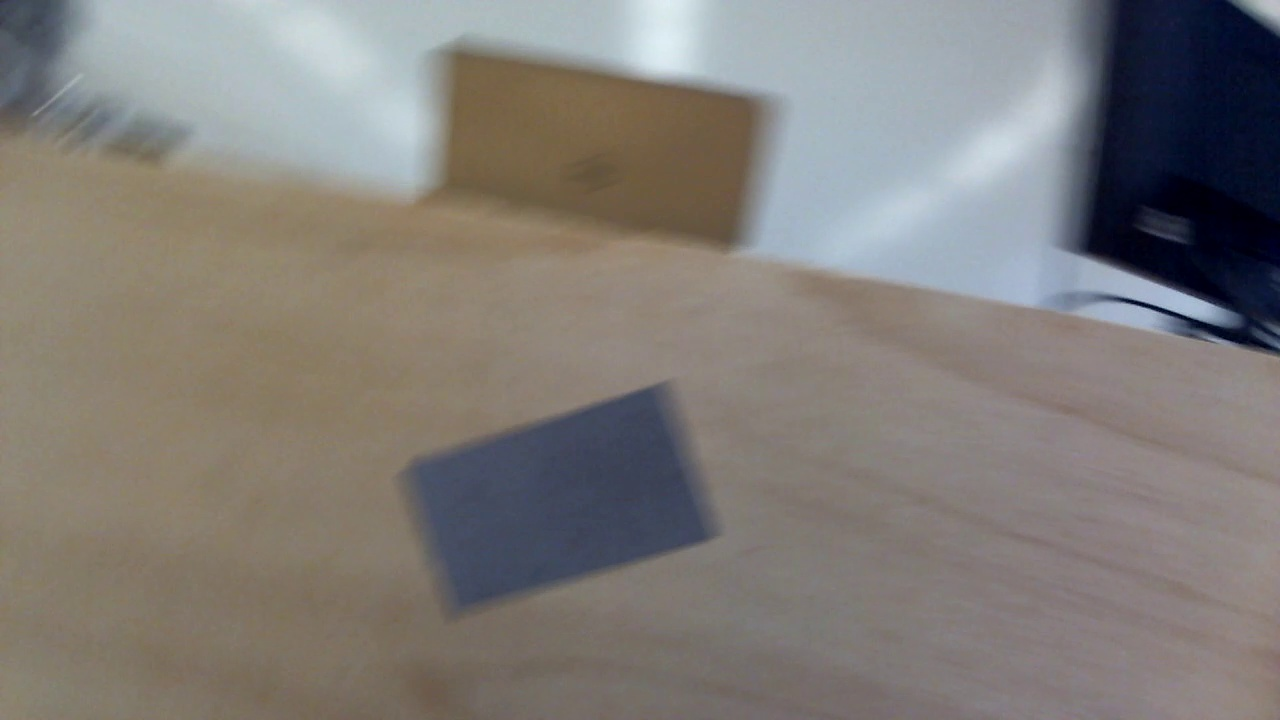Tape: (399, 382, 727, 623)
